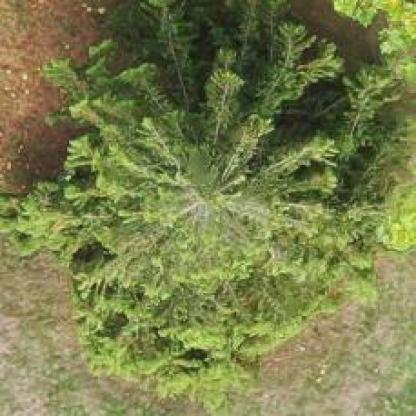Coniferous Tree: (6, 0, 404, 391)
